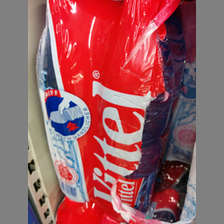water: (107, 1, 177, 224), (35, 1, 107, 203)
